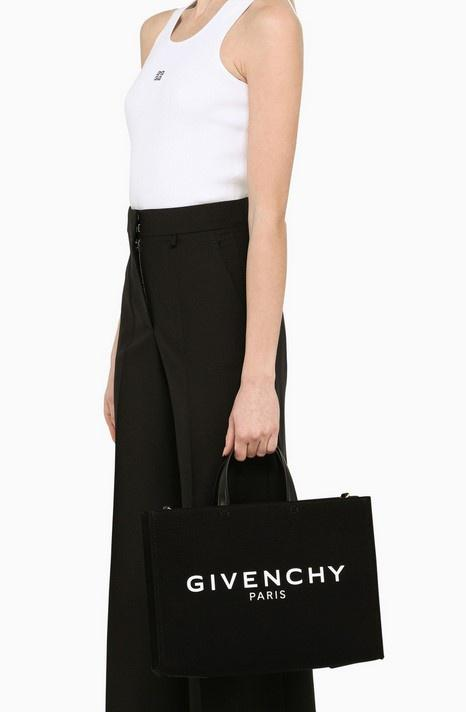GIVENCHY: (181, 559, 356, 603)
